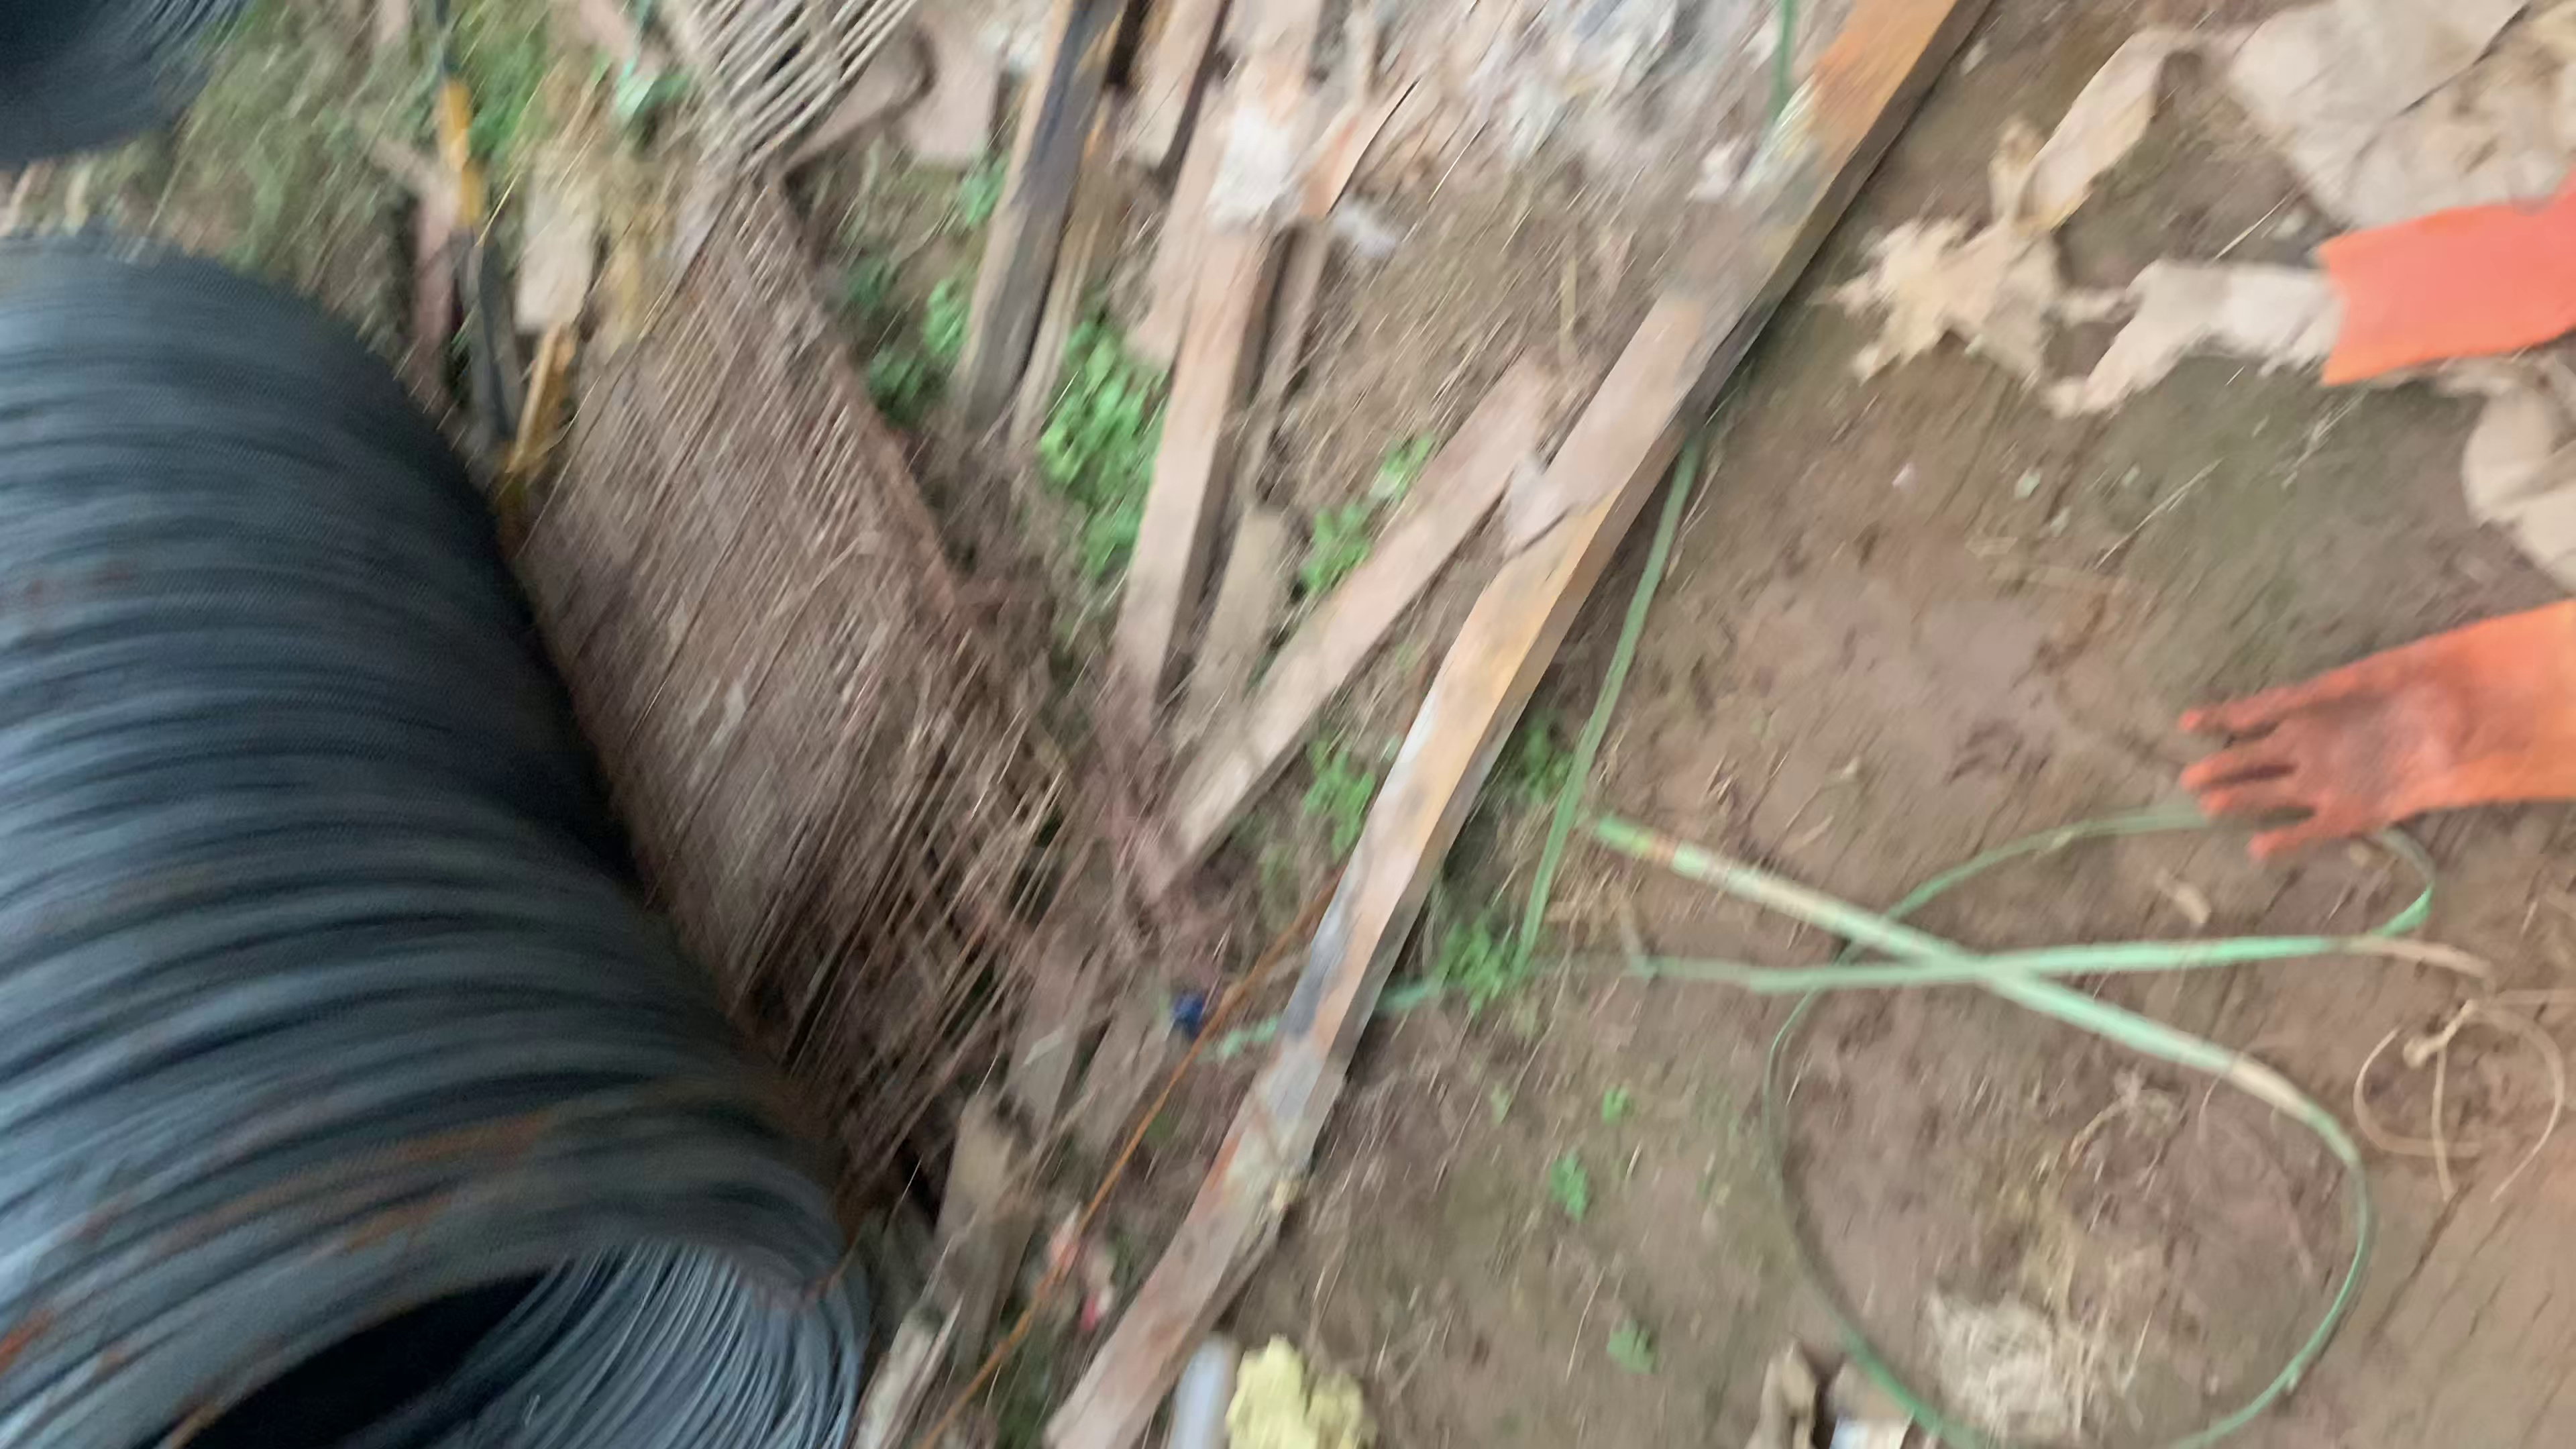coil: (5, 1169, 885, 1442)
